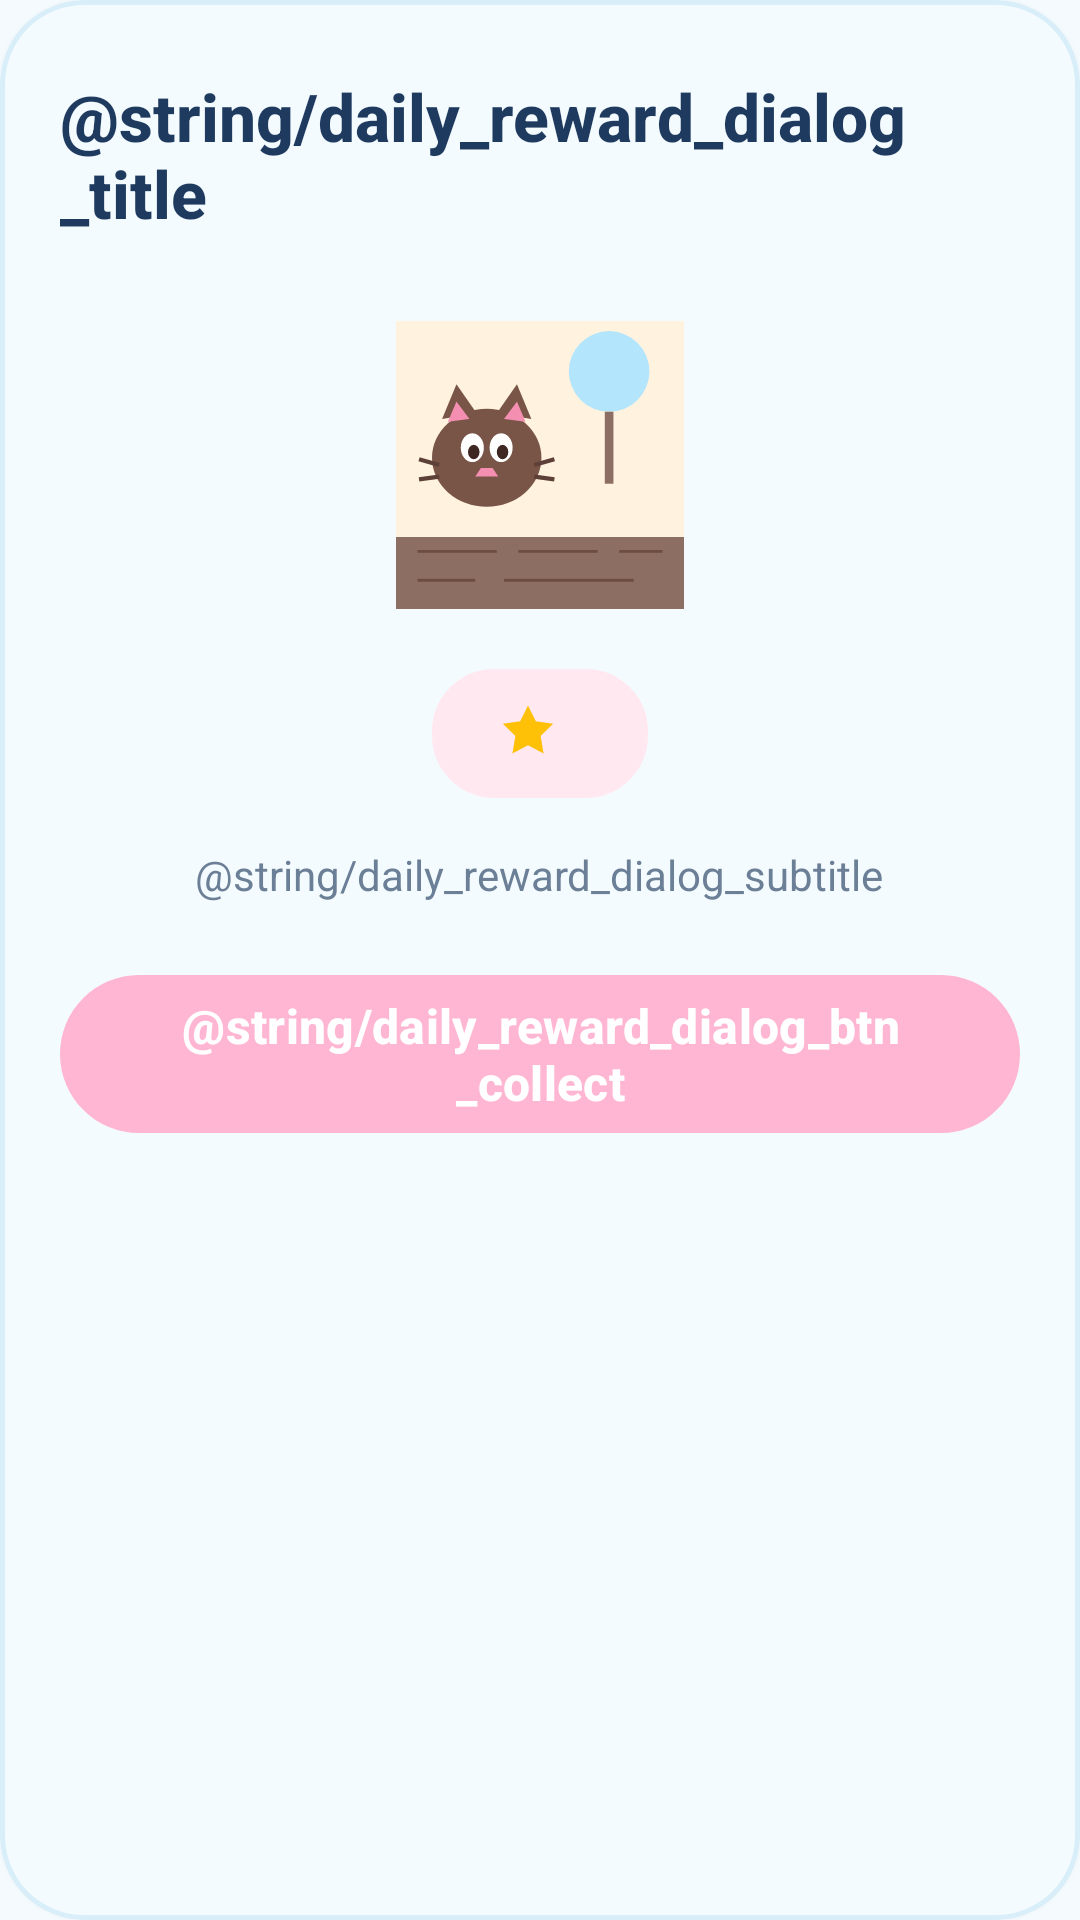

Where icons sit on this 1080px x 1920px app screen, as detection(x1, y1, x2, y2):
puzzle cute cat: detection(396, 321, 684, 609)
star: detection(503, 706, 553, 754)
